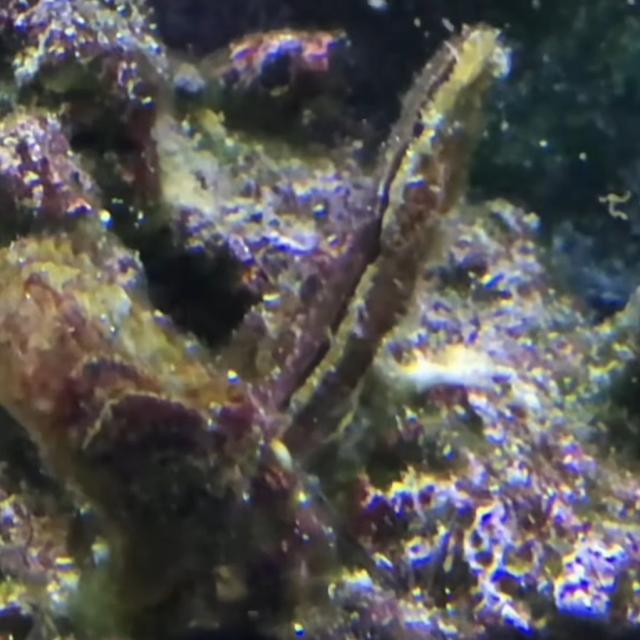Oyster-Closed: (222, 28, 510, 463)
Oyster-Indeterminate: (0, 239, 309, 603)
